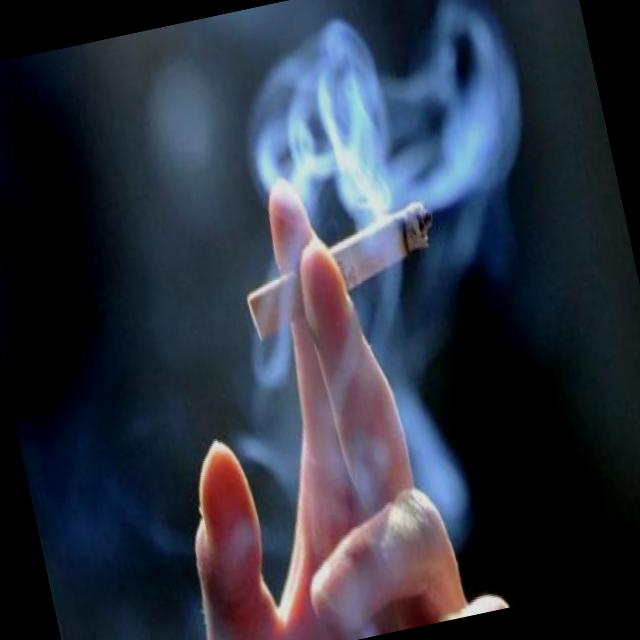smoke: (317, 185, 448, 302)
